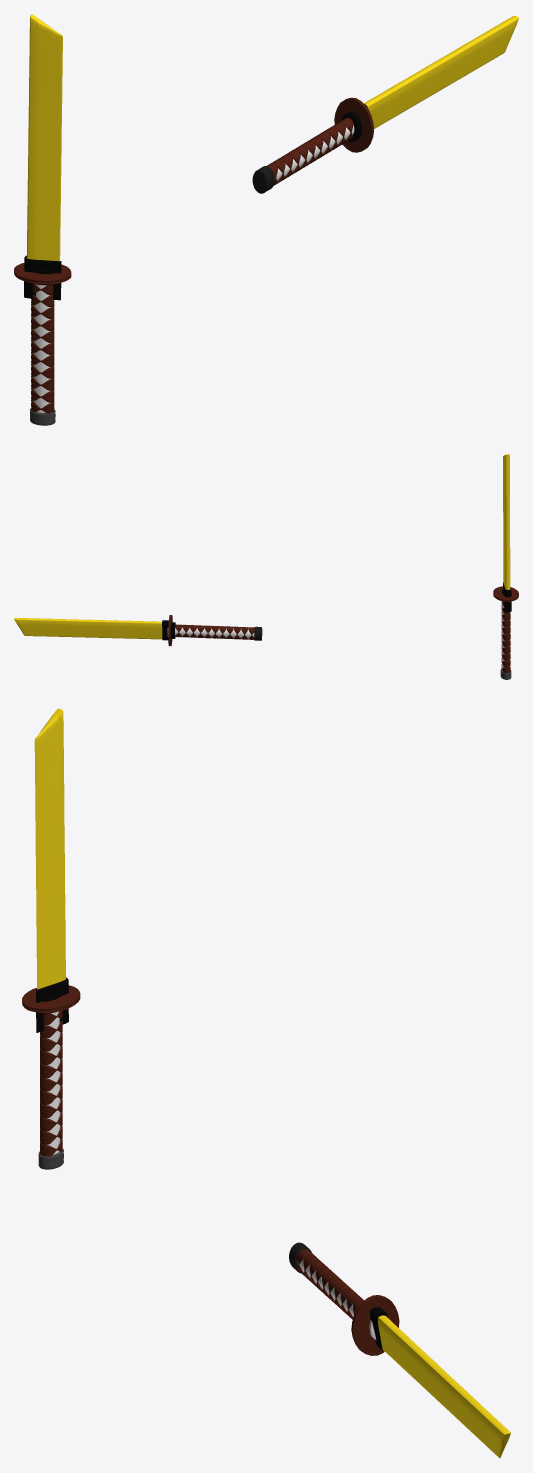
3 views of the same model, one above another, from view 1: azimuth 30°, elevation 25°; view 2: azimuth 150°, elevation 25°; view 3: azimuth 270°, elevation 25° (orthographic). The views are drawn at different scales.
Visible parts, largest first — view 1: blade_2, blade, guard, handle_2, edge_cover_2, guard_2, handle, handle_end; view 2: blade, blade_2, handle; view 3: blade_2, blade, guard, handle_2, guard_2.
Part boxes in pixels (x1,y1,x2,y2): blade_2: (26,14,62,261); blade: (364,16,518,128); guard: (334,97,373,152); handle_2: (33,284,50,412); edge_cover_2: (24,255,61,300); guard_2: (14,263,71,284); handle: (274,125,354,180); handle_end: (252,166,274,193); blade: (14,618,162,639); blade_2: (503,454,510,589); handle: (175,627,254,638); blade_2: (34,708,65,989); blade: (378,1315,510,1458); guard: (351,1295,399,1355); handle_2: (46,1011,60,1154); guard_2: (22,985,80,1012).
Size of the model in its own units: 176 by 95.03 by 96.8.
